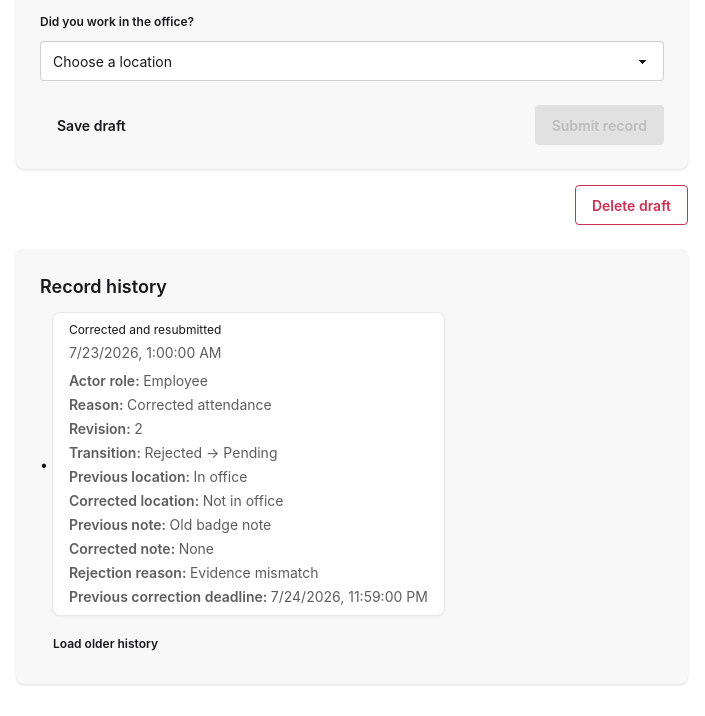
Test: WorkInOfficeDetailPage › loads older audit history without replacing the first page
The width and height of the screenshot is (705, 716).
(page scrolled)
What coordinates should you click on to do the following:
click the button "Load older history"
I would click on:
 (106, 644)
Its box is [40, 628, 171, 660].
(page scrolled)
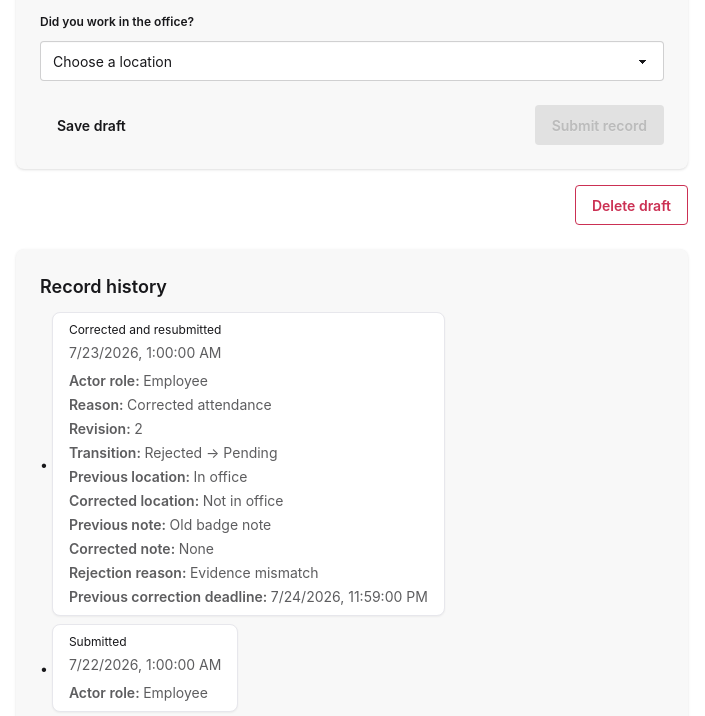
Check: the text "Corrected and resubmitted" is shown, box [69, 322, 221, 337]
Check: the text "Submitted" is shown, box [69, 634, 126, 649]
Check: the button "Load older history" is gone
